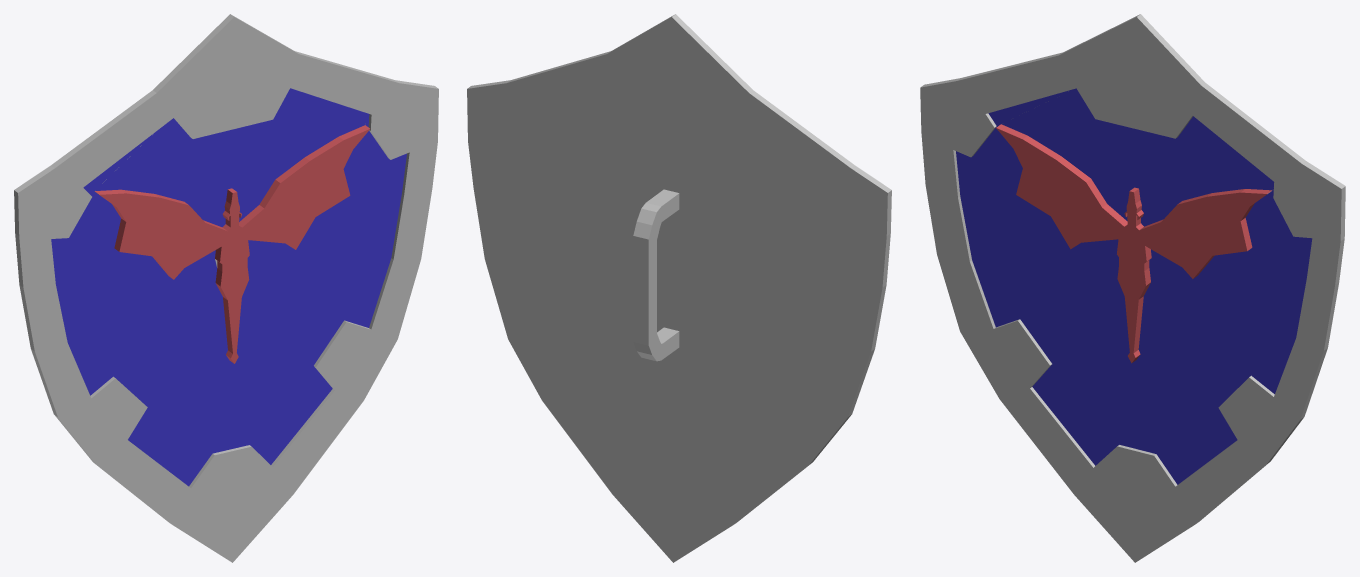
The model's file is newEscudo.fbx.
The picture shows the model from 3 angles, left to right: view 1: azimuth 30°, elevation 25°; view 2: azimuth 150°, elevation 25°; view 3: azimuth 330°, elevation 25°; orthographic projection.
Parts seen in each view (by area): view 1: escudo; view 2: escudo; view 3: escudo.
Boxes of the visible parts, x1,y1,x2,y2 form: escudo: [14, 14, 438, 562]; escudo: [467, 14, 891, 562]; escudo: [920, 14, 1345, 562].
Bounding box in the file's own units: 5.43 × 6.73 × 0.8384.
